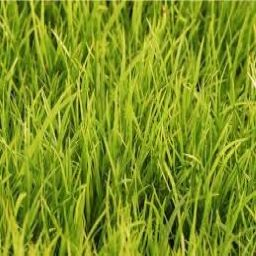grass: (1, 4, 251, 253)
